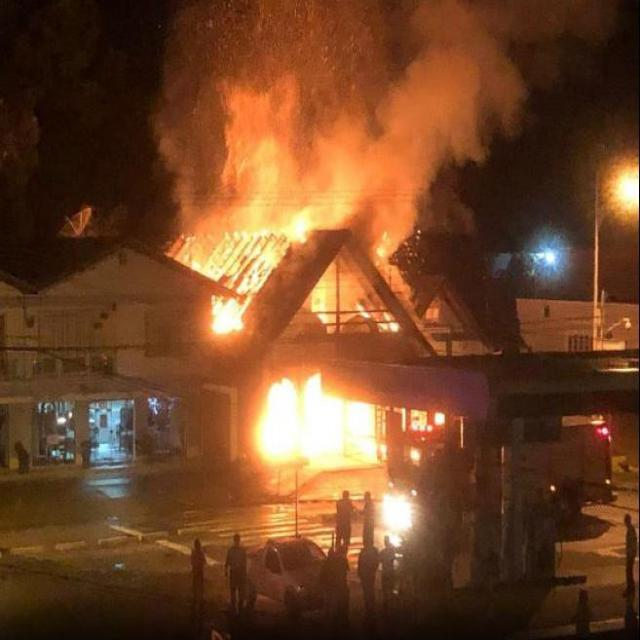fire: (174, 75, 459, 338), (256, 369, 377, 483), (306, 241, 373, 326)
